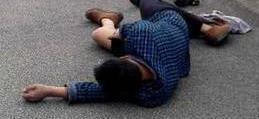Fall-Detected: (13, 0, 242, 110)
